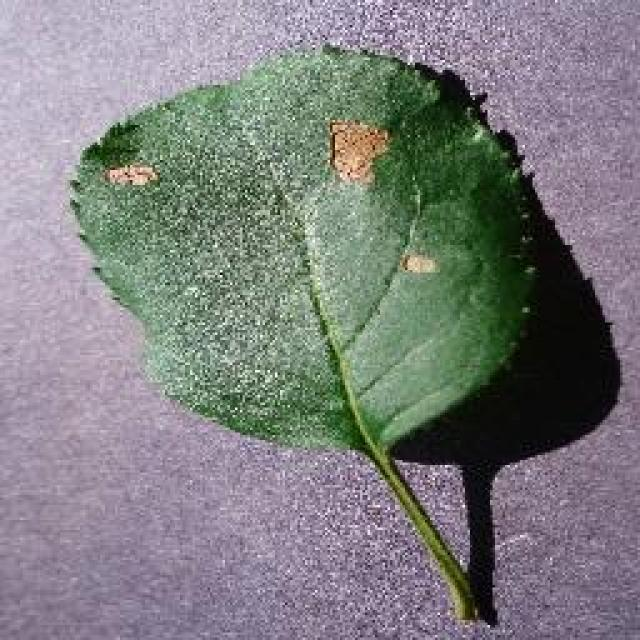Apple___Black_rot: (78, 82, 474, 330)
